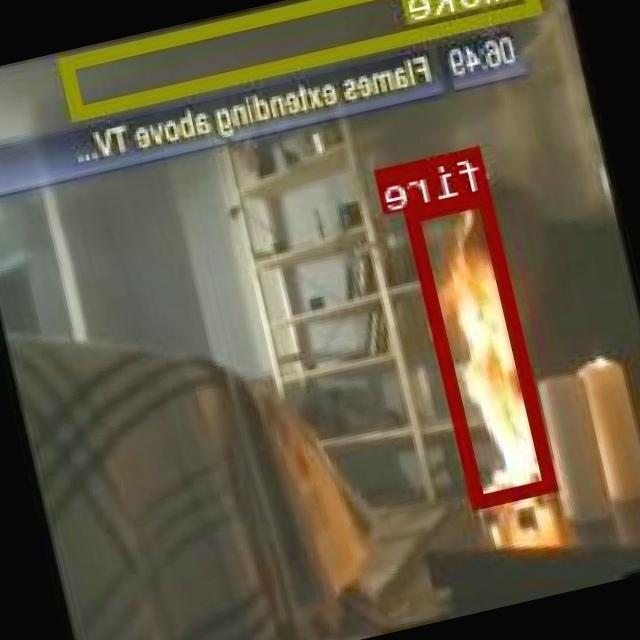fire: (406, 188, 561, 506)
smoke: (61, 0, 542, 116)
